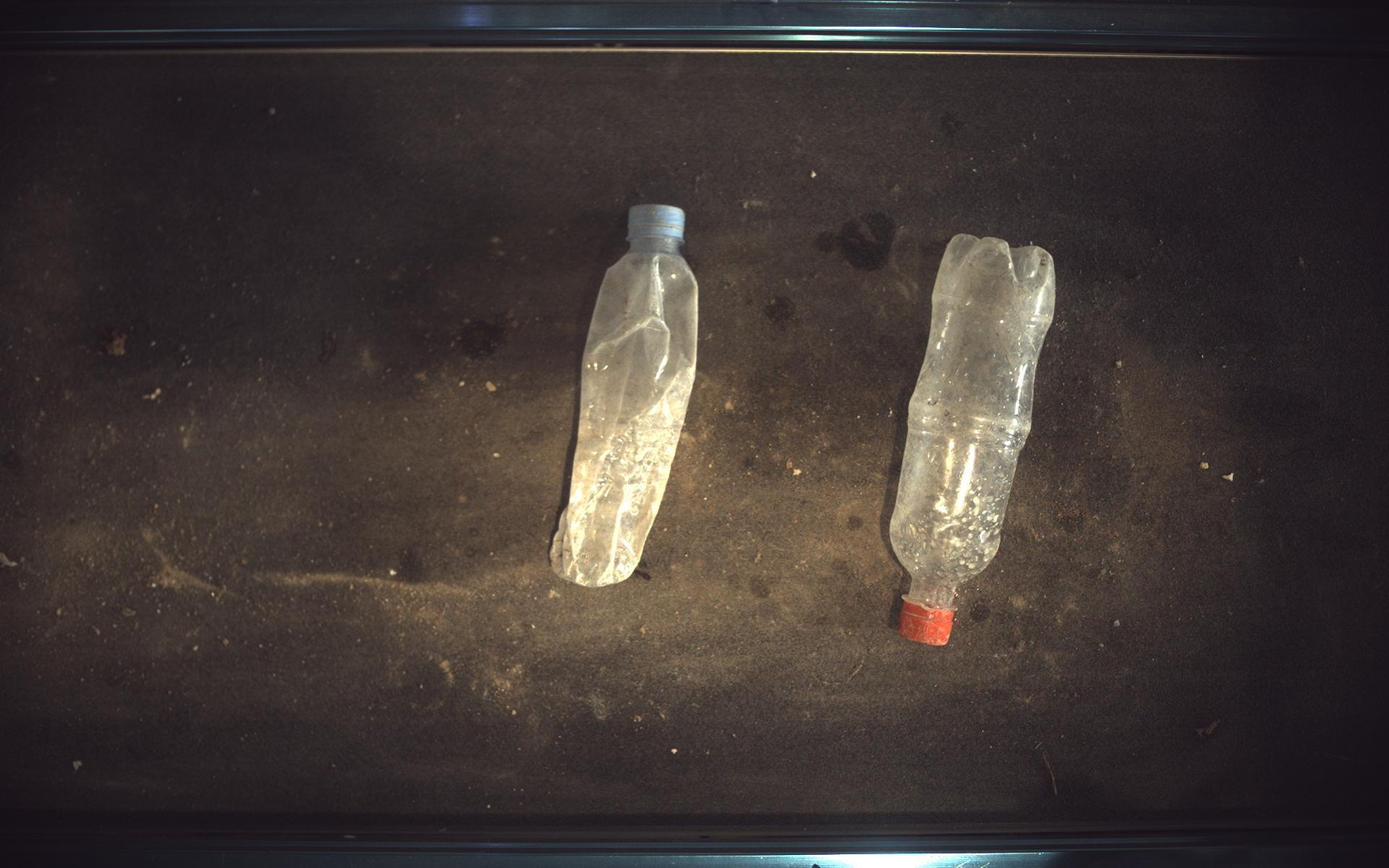general_w: (891, 234, 1058, 646), (551, 204, 699, 587)
